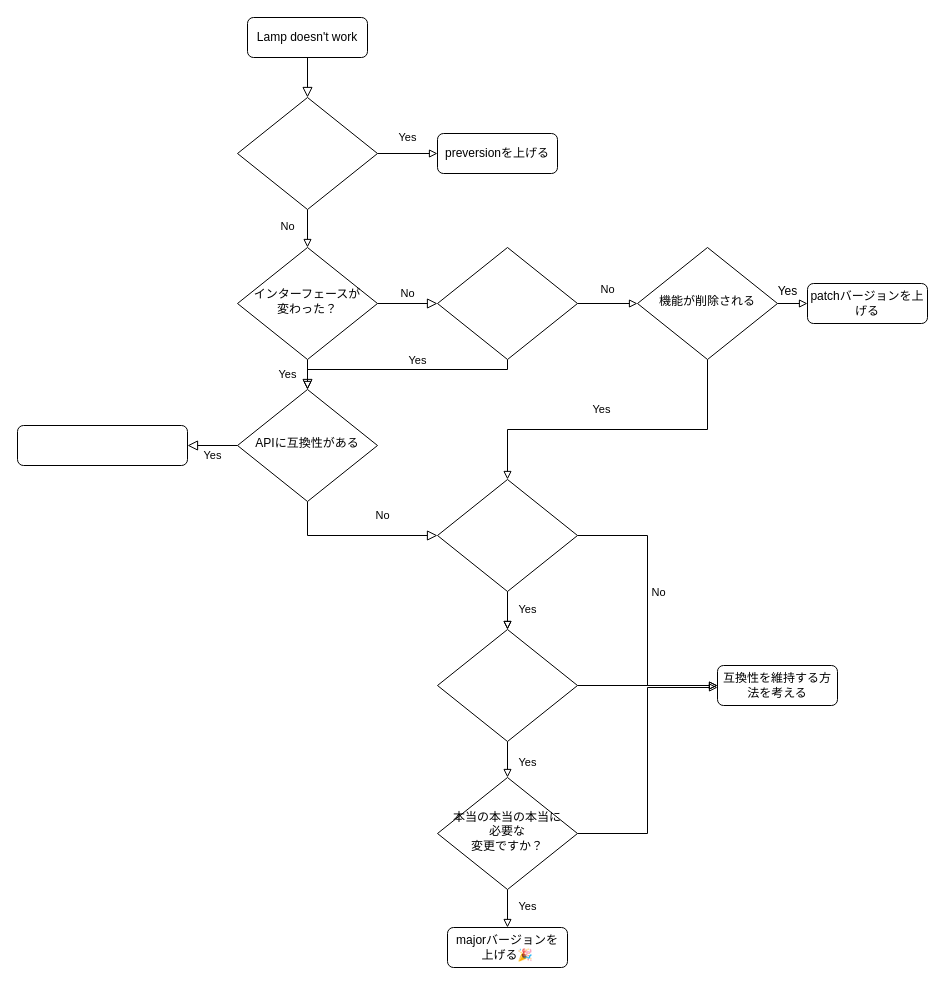
Image size: 945x985. Some labels were removed from this diagram. The shapes that lost their labels are listed below. From the top down, each one's centre as x and y in pixels, then its label:
(x=307, y=153): まだ開発の途中
(x=507, y=303): 機能が追加された？
(x=102, y=445): minorバージョンを上げる
(x=507, y=535): 本当に必要な 変更ですか？
(x=507, y=685): 本当の本当に必要な 変更ですか？
